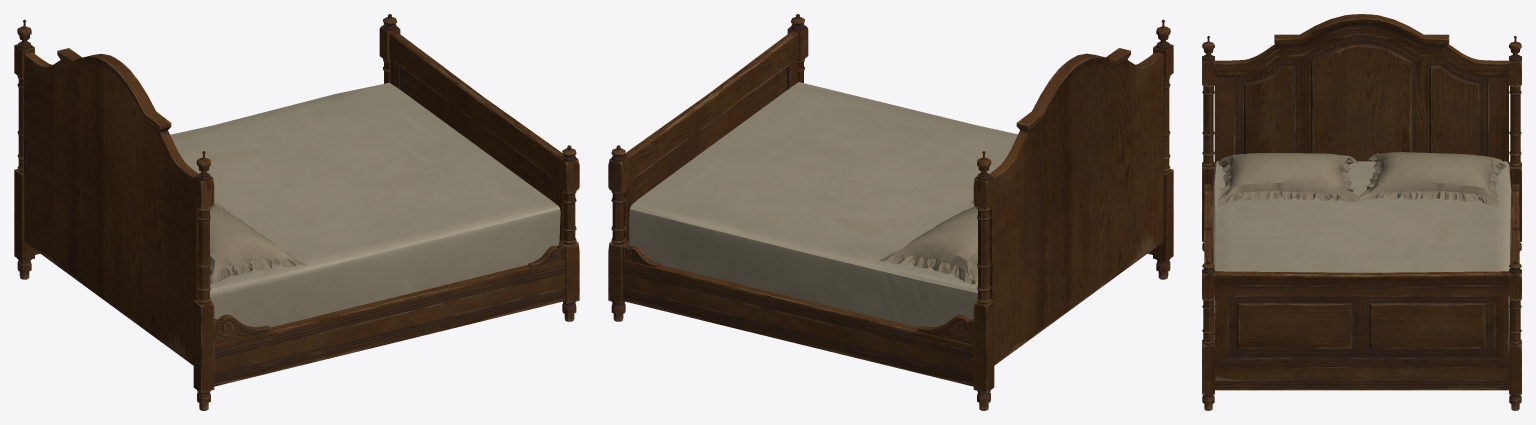
Rendered from bed-double-b.glb.
3 views of the same model, side by side, from view 1: azimuth 30°, elevation 25°; view 2: azimuth 150°, elevation 25°; view 3: azimuth 270°, elevation 25° (orthographic). The views are drawn at different scales.
Visible parts, largest first — view 1: bed-double-b; view 2: bed-double-b; view 3: bed-double-b.
Boxes of the visible parts, box(x1,y1,x2,y2) form: bed-double-b: box(14, 14, 579, 410); bed-double-b: box(608, 14, 1173, 410); bed-double-b: box(1202, 14, 1521, 410).
Size of the model in its own units: 2.26 by 1.61 by 1.94.
2 materials, 2 textured.
